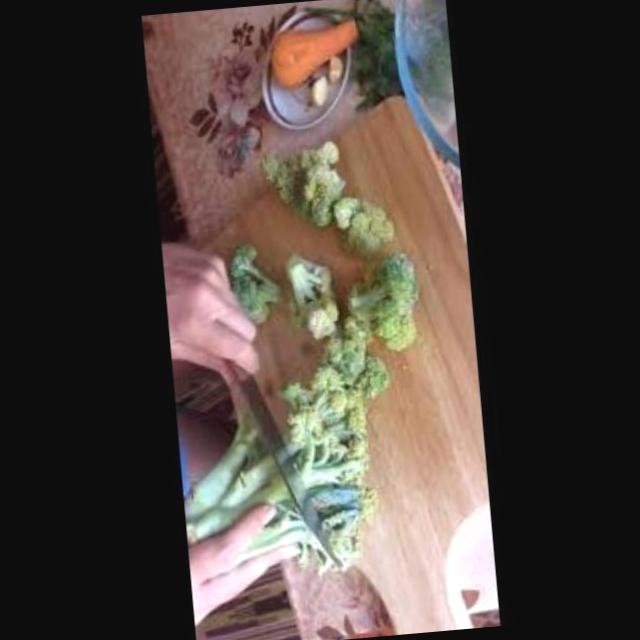Broccoli: (240, 340, 400, 608), (252, 141, 384, 254), (338, 256, 422, 360), (268, 240, 356, 336), (196, 238, 272, 326)
Carrot: (262, 11, 368, 90)
garlic: (320, 52, 350, 86), (306, 72, 332, 108)
